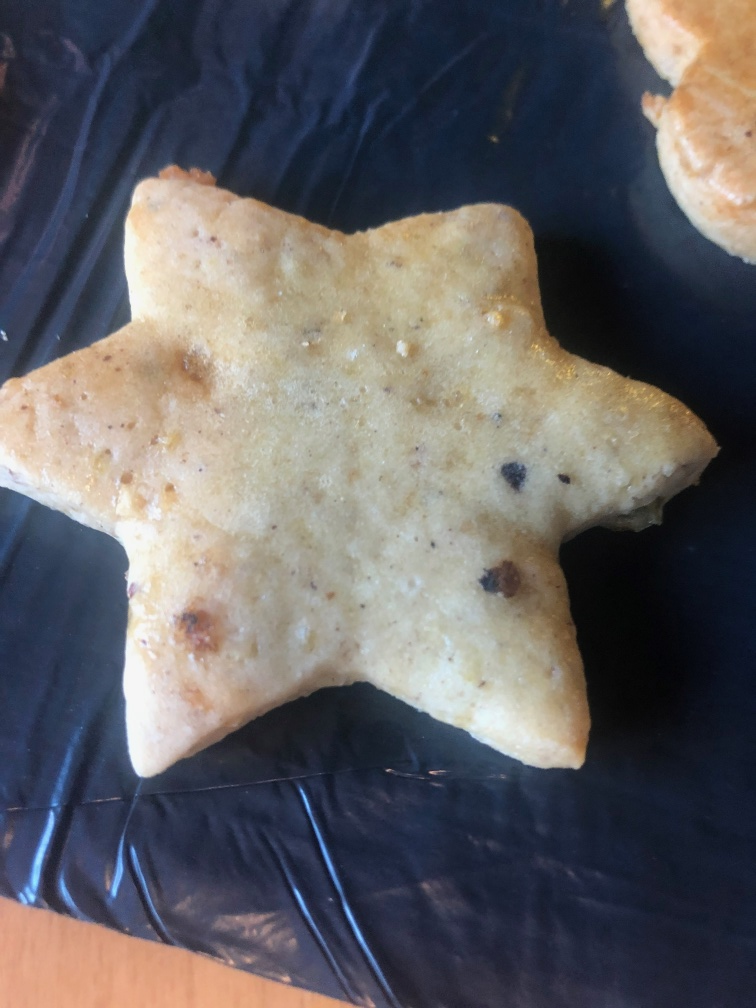star: (1, 164, 722, 787)
